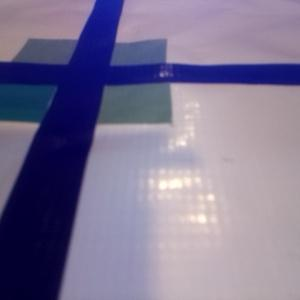bottom_left: (1, 65, 93, 123)
bottom_right: (58, 66, 172, 123)
top_left: (12, 39, 109, 85)
top_right: (78, 39, 167, 84)
